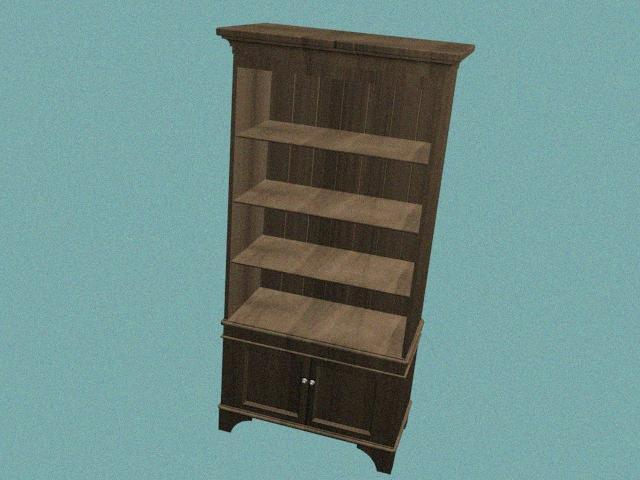cabinet_door: (308, 348, 394, 442), (225, 336, 310, 421)
handle: (299, 374, 306, 386), (309, 380, 318, 387)
